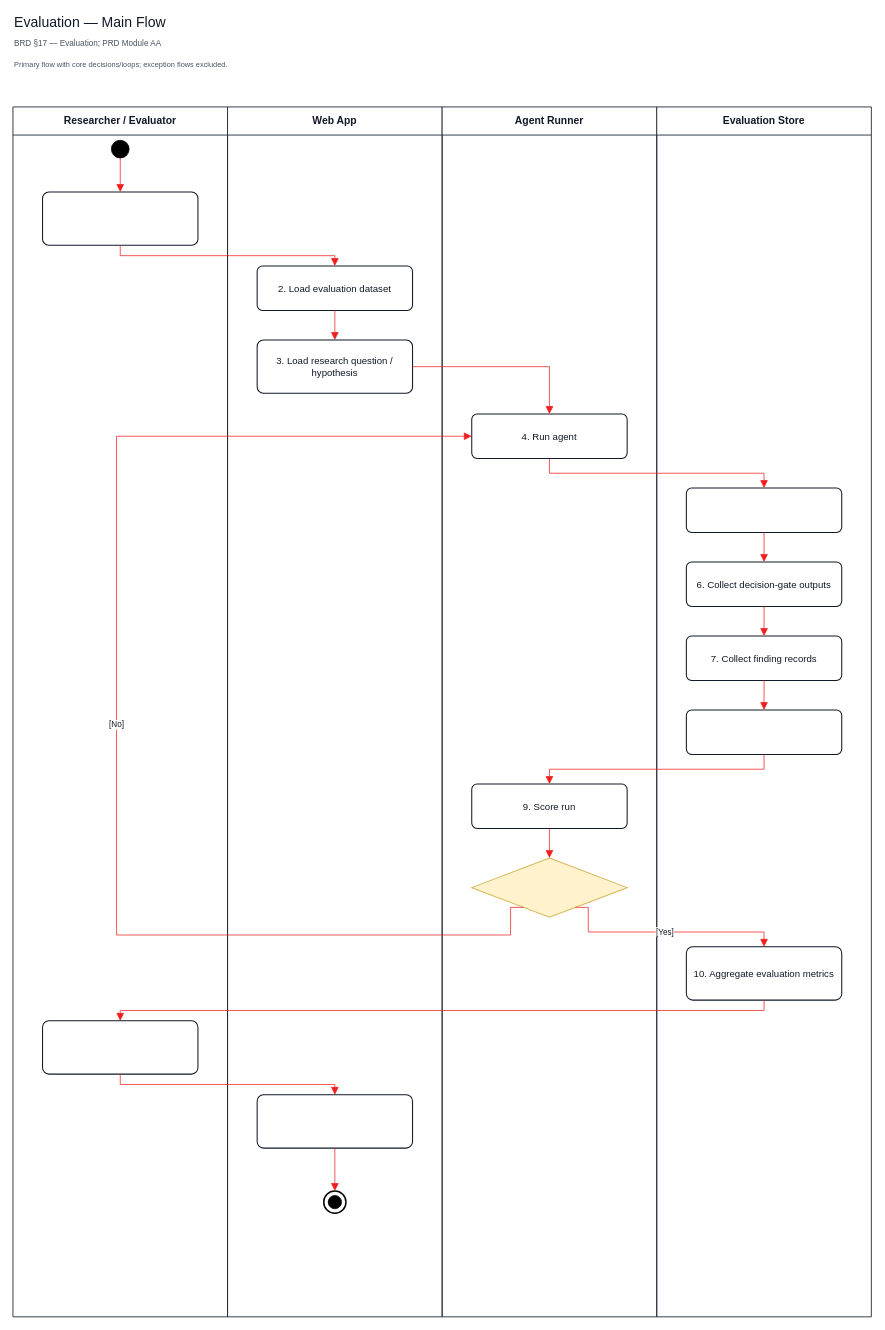
Image size: 885x1330. Some labels were removed from this diagram. Here are the shapes that lost their labels. From the top down, the centre of each, then its label:
pixel 120 218: 1. Select benchmark task + configuration
pixel 763 510: 5. Collect experiment records
pixel 763 732: 8. Collect execution trace
pixel 549 887: N runs completed?
pixel 120 1047: 11. Compare configurations / baselines
pixel 334 1121: 12. Generate evaluation report
